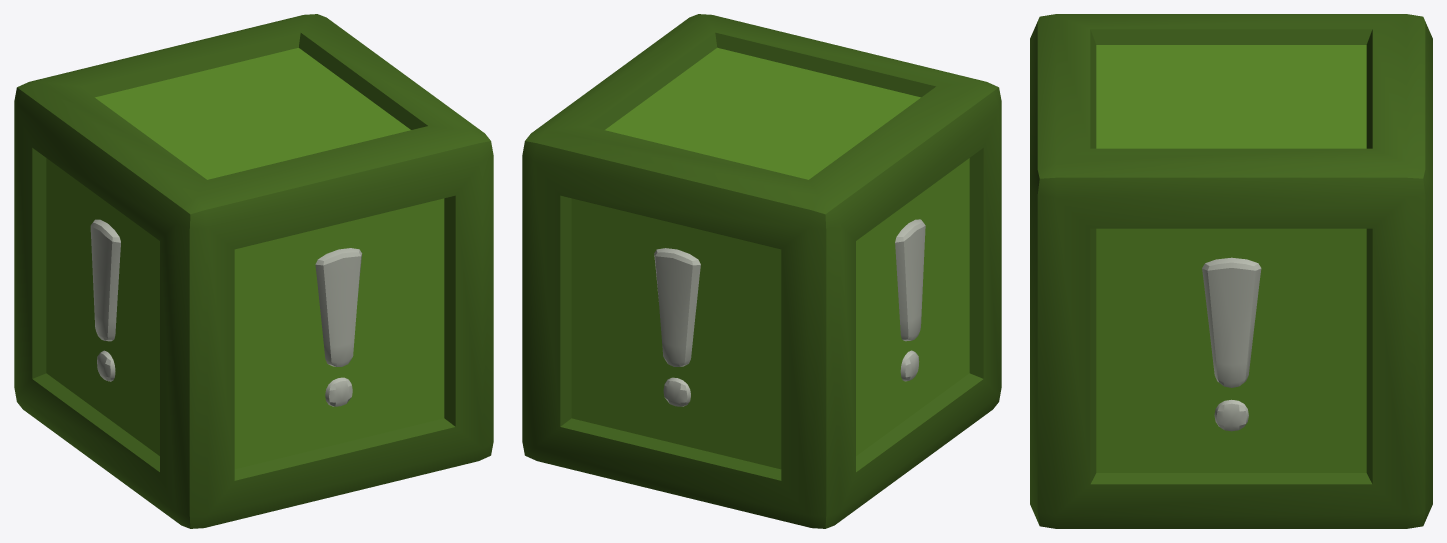
Rendered from quaternius-platformer-game-cube-exclamation.glb.
The picture shows the model from 3 angles, left to right: view 1: azimuth 30°, elevation 25°; view 2: azimuth 150°, elevation 25°; view 3: azimuth 270°, elevation 25°; orthographic projection. The views are drawn at different scales.
Parts seen in each view (by area): view 1: Cube_Exclamation; view 2: Cube_Exclamation; view 3: Cube_Exclamation.
Part boxes in pixels (x1,y1,x2,y2): Cube_Exclamation: [14, 14, 493, 528]; Cube_Exclamation: [522, 14, 1001, 528]; Cube_Exclamation: [1030, 14, 1432, 528].
Bounding box in the file's own units: 2.02 × 2.02 × 2.02.
